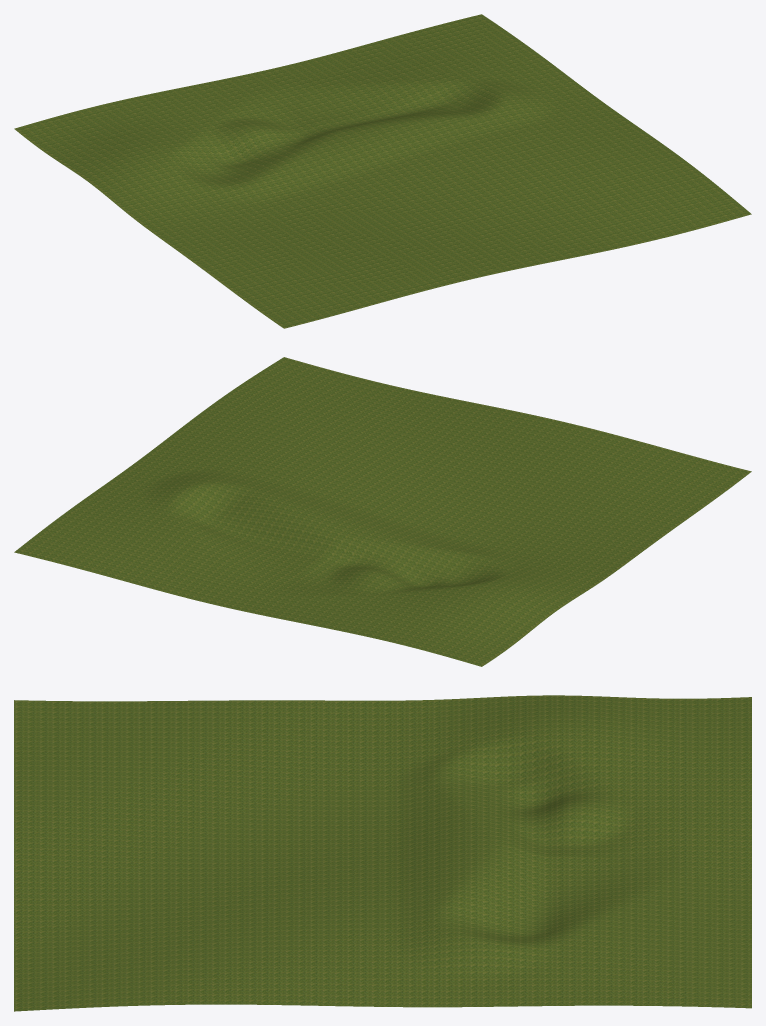
The model's file is tiled-ground.glb.
3 renders of one model, top to bottom at view 1: azimuth 30°, elevation 25°; view 2: azimuth 150°, elevation 25°; view 3: azimuth 270°, elevation 25°, orthographic. The views are drawn at different scales.
Visible parts, largest first — view 1: ZoneOne continuous prairie source; view 2: ZoneOne continuous prairie source; view 3: ZoneOne continuous prairie source.
Part boxes in pixels (box(x1,y1,x2,y2)): ZoneOne continuous prairie source: box(14, 14, 751, 328); ZoneOne continuous prairie source: box(14, 357, 751, 666); ZoneOne continuous prairie source: box(14, 695, 751, 1011).
Size of the model in its own units: 240 by 10.74 by 240.
Materials: 1 (1 with a texture image).
